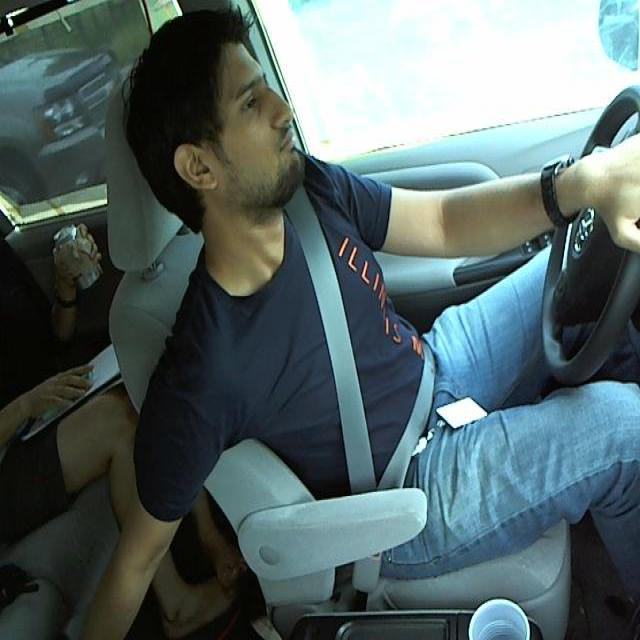seatbelt: (291, 208, 448, 483)
